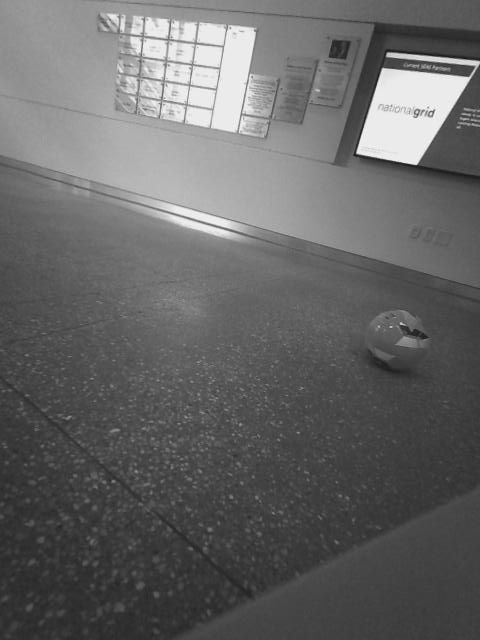ball: (382, 316, 447, 383)
